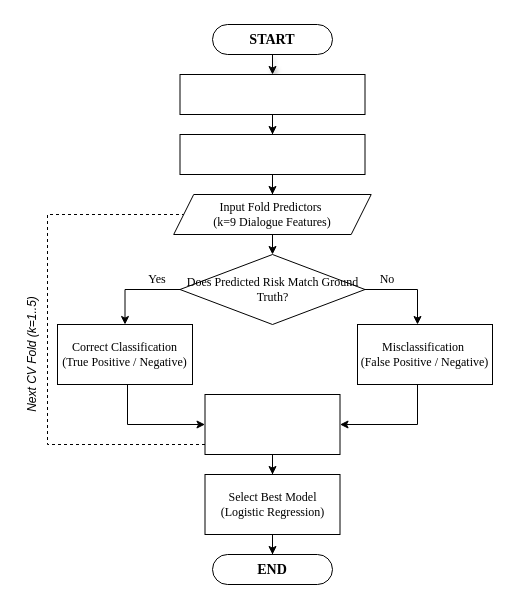
The diagram is 510 pixels wide and 609 high, and some of its shapes have lost their labels. The shapes that lost their labels are listed below. From the top down, each one's centre as x and y in pixels, then its label:
At point (272, 94): "Initialize Dataset (StudyChat Cohort N=175)".
At point (272, 154): "Extract Early Features (Assignments A1–A3)".
At point (272, 424): "Aggregate Fold Metrics (F1-Macro, Bal Acc, MCC)".
